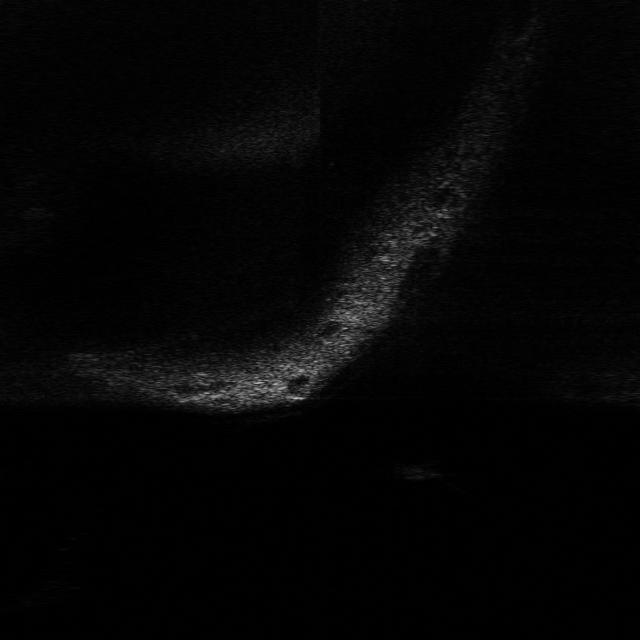cube: (390, 460, 440, 482)
